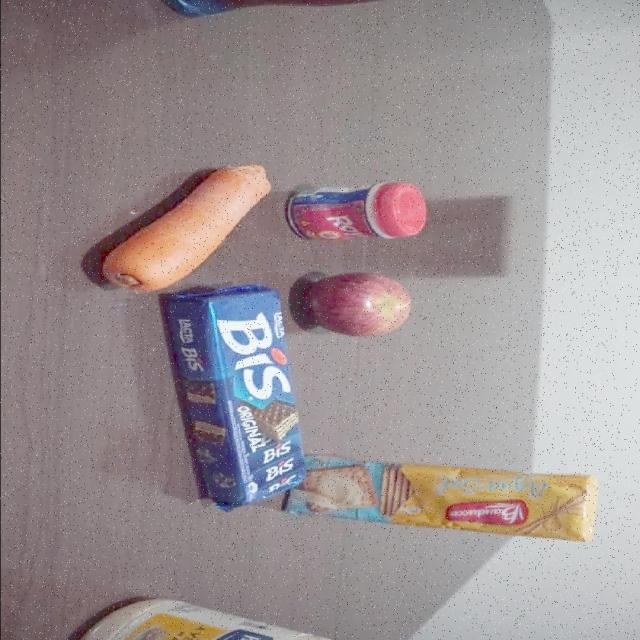Apple: (298, 271, 417, 338)
Carrot: (94, 163, 272, 294)
Cracker: (283, 450, 602, 546)
Ketchup: (148, 0, 384, 20)
Mayonnaise: (63, 596, 361, 640)
Yeast: (287, 182, 426, 242)
